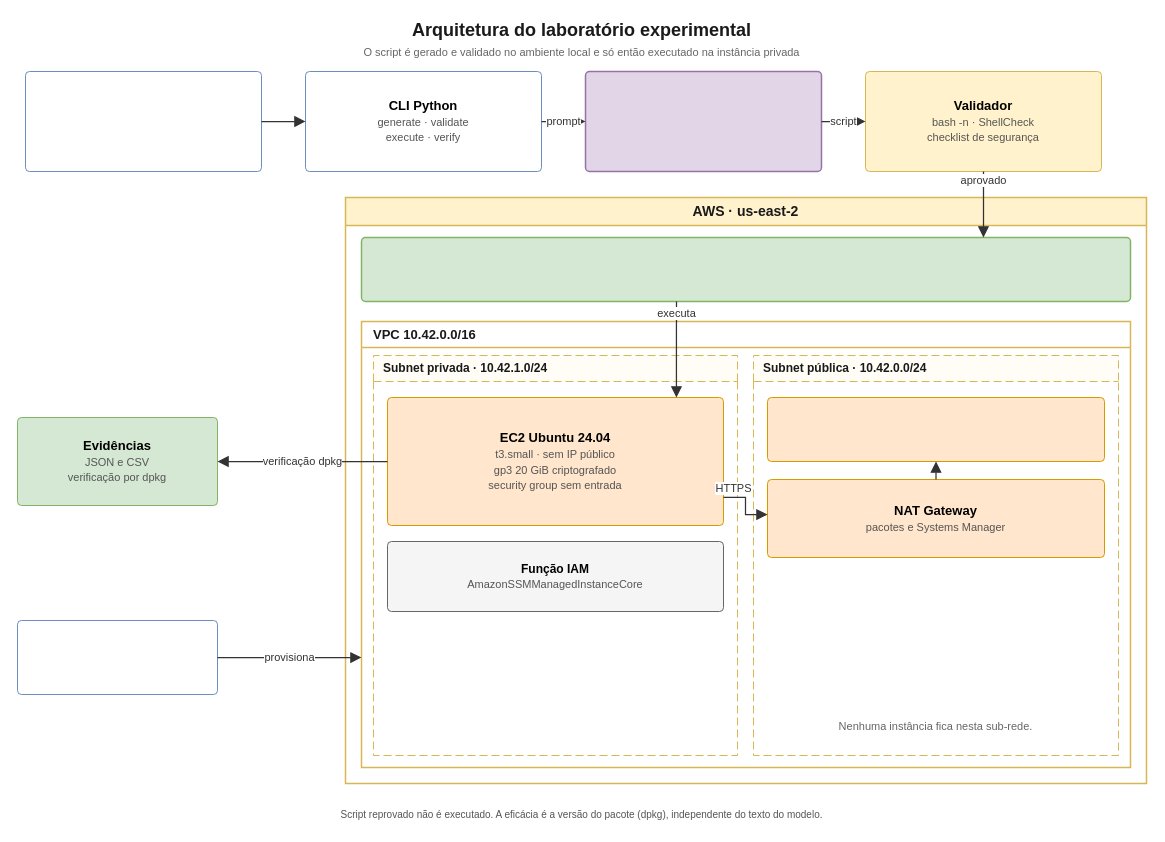
This 1165x842 diagram has some shape labels left out. Each missing label, with the centre of its shape:
Cenário da CVE prompt padronizado: (x=143, y=121)
Internet Gateway saída para a internet: (x=935, y=429)
Serviço externo API OpenAI · modelo GPT devolve remediation.sh: (x=703, y=121)
Systems Manager Run Command · somente script aprovado: (x=745, y=269)
Terraform cria e remove a pilha: (x=117, y=657)
